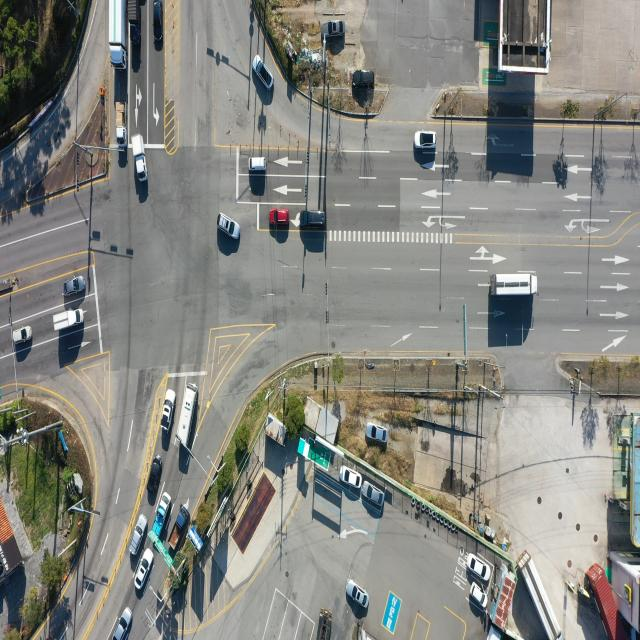car: (135, 547, 154, 589), (252, 55, 274, 91), (131, 513, 148, 555), (111, 606, 131, 640), (346, 580, 368, 610), (162, 389, 176, 434), (147, 457, 162, 499), (470, 555, 492, 583), (219, 213, 241, 240), (362, 483, 384, 508), (472, 580, 490, 608), (302, 210, 327, 228), (342, 466, 362, 488), (365, 423, 387, 442), (64, 277, 86, 296), (13, 325, 33, 344), (414, 132, 436, 149), (154, 0, 162, 46), (352, 70, 374, 86), (327, 21, 345, 37), (272, 209, 290, 224), (249, 158, 267, 173)
medium_truck: (522, 552, 563, 638), (110, 0, 128, 69), (491, 274, 536, 300), (316, 609, 333, 640)
small_bus: (174, 383, 198, 448)
small_truck: (150, 492, 171, 542), (170, 506, 190, 555), (132, 134, 148, 182), (52, 308, 83, 332), (114, 100, 126, 147), (129, 0, 140, 42)
